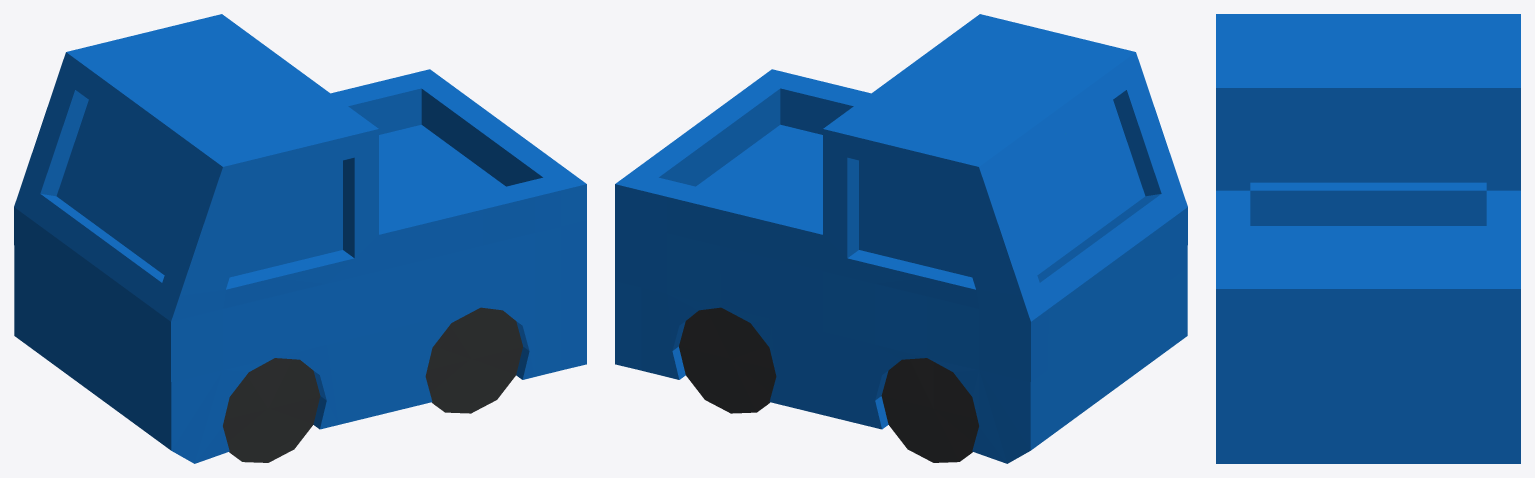
Rendered from Car.fbx.
The picture shows the model from 3 angles, left to right: view 1: azimuth 30°, elevation 25°; view 2: azimuth 150°, elevation 25°; view 3: azimuth 270°, elevation 25°; orthographic projection. The views are drawn at different scales.
Parts seen in each view (by area): view 1: Car; view 2: Car; view 3: Car.
Boxes of the visible parts, x1,y1,x2,y2 form: Car: [14, 14, 586, 463]; Car: [615, 14, 1187, 463]; Car: [1216, 14, 1520, 463].
Bounding box in the file's own units: 12 × 8.64 × 7.85.
